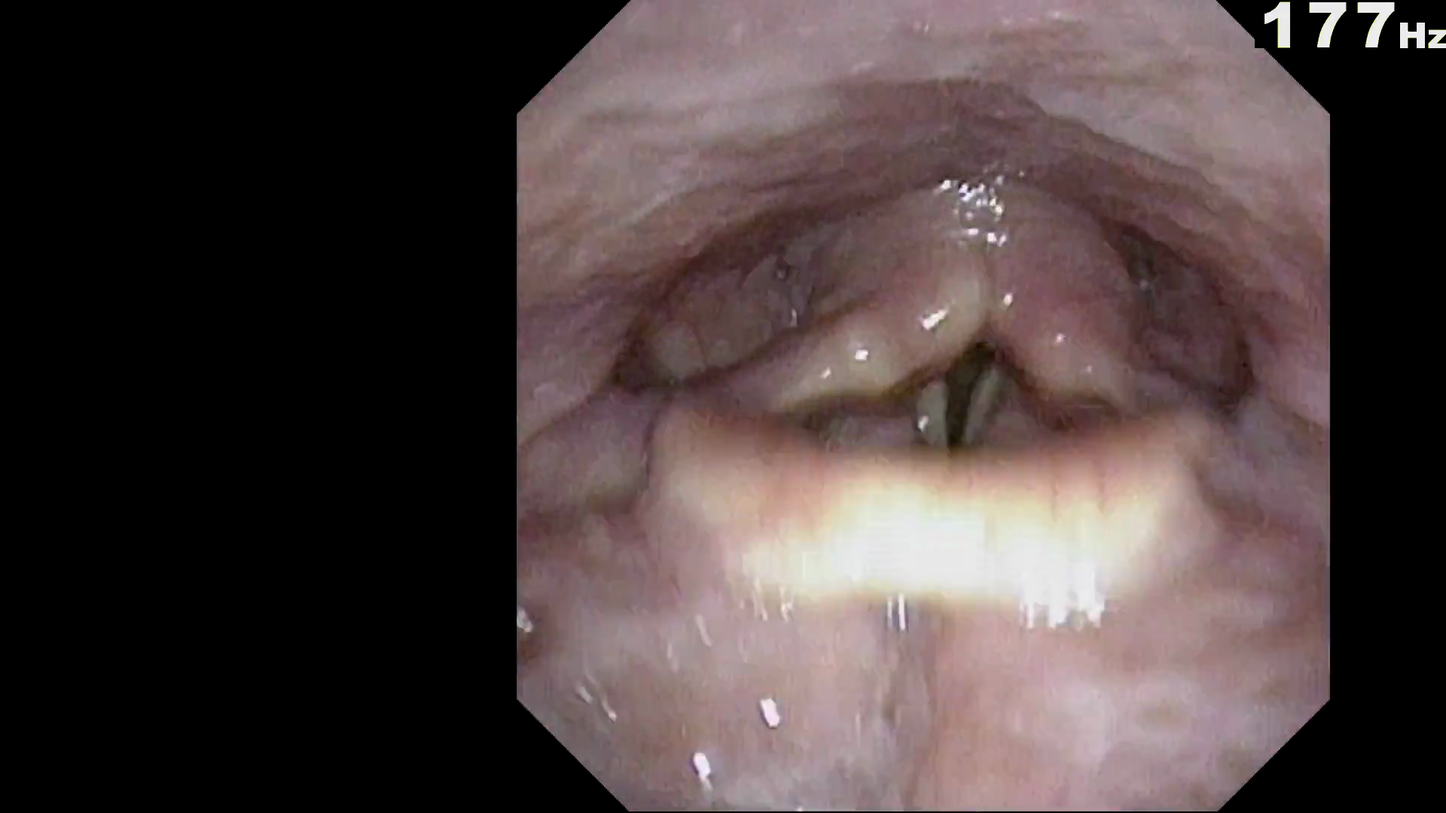epiglottis: (641, 393, 1240, 647)
trachea: (864, 281, 1040, 502)
